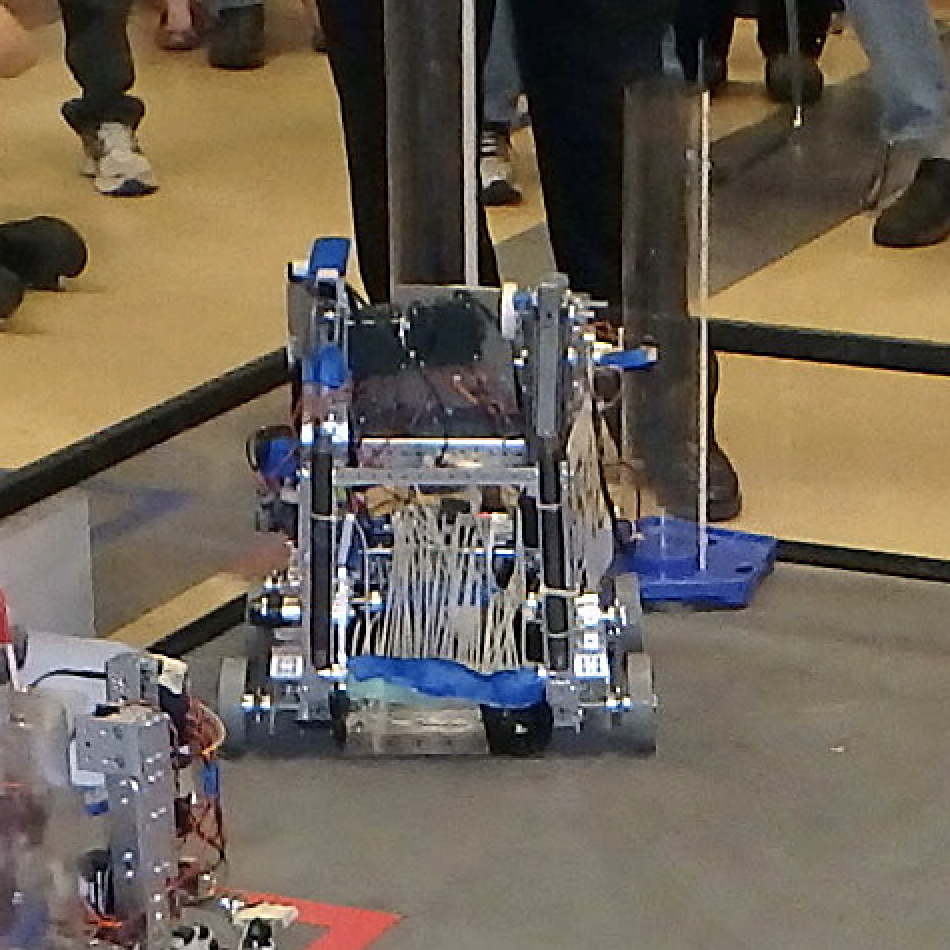robot: (206, 228, 674, 763), (0, 615, 300, 949)
